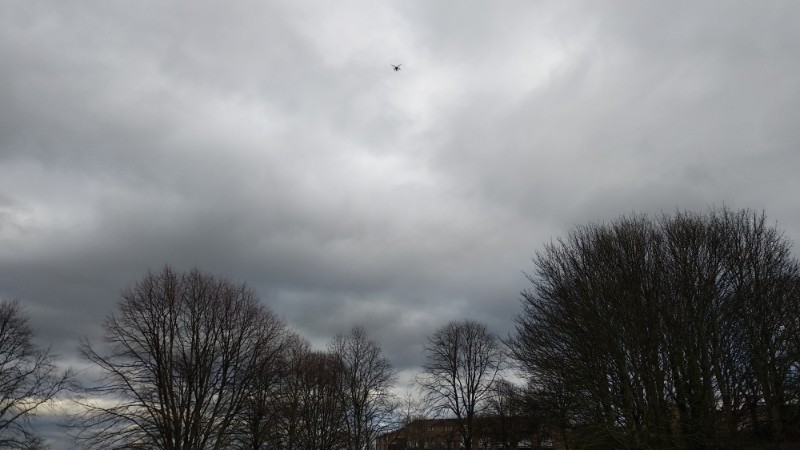drone: (389, 61, 405, 74)
